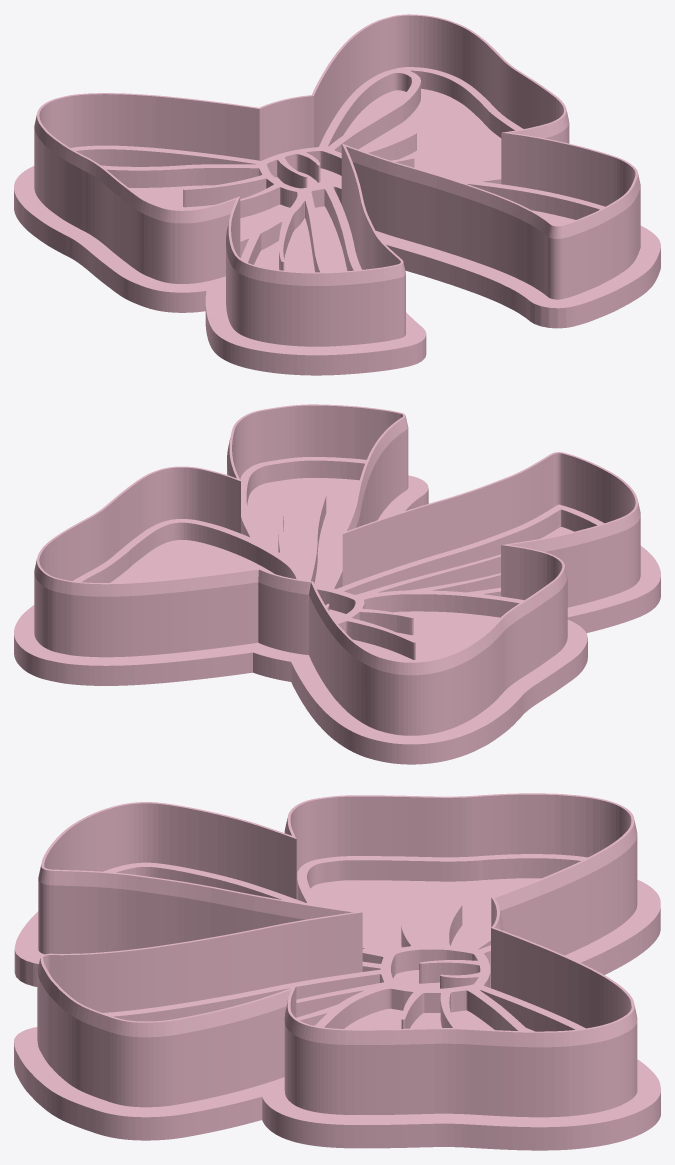
File: cortador-mono-sello.glb
3 views of the same model, one above another, from view 1: azimuth 30°, elevation 25°; view 2: azimuth 150°, elevation 25°; view 3: azimuth 270°, elevation 25° (orthographic). The views are drawn at different scales.
Parts seen in each view (by area): view 1: pieza; view 2: pieza; view 3: pieza.
Part boxes in pixels (box(x1,y1,x2,y2)): pieza: box(14, 14, 660, 375); pieza: box(14, 404, 660, 764); pieza: box(14, 793, 660, 1150).
Bounding box in the file's own units: 0.0842 × 0.016 × 0.088.
